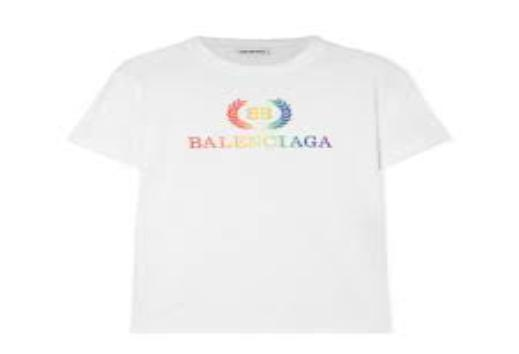BALENCIAGA: (186, 135, 334, 152), (244, 103, 274, 119)
